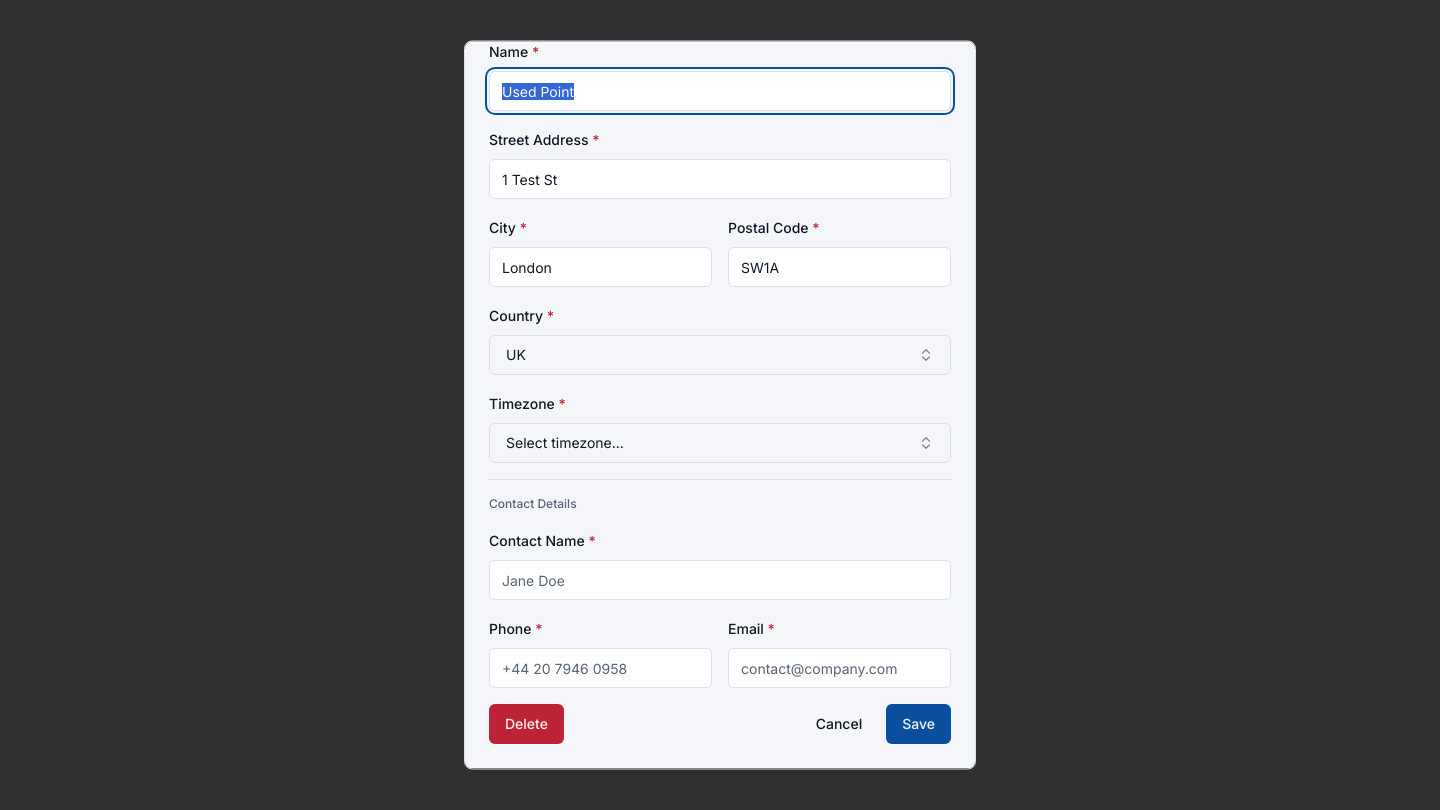
Test case: PointEditor › blocks deleting a point referenced by a leg (no DELETE) and shows a message
(page scrolled)
Expected: the dialog is shown, top-left (464, 40), bottom-right (976, 770)
Click the button "Delete". click: (526, 724)
box: top-left (489, 704), bottom-right (564, 744)
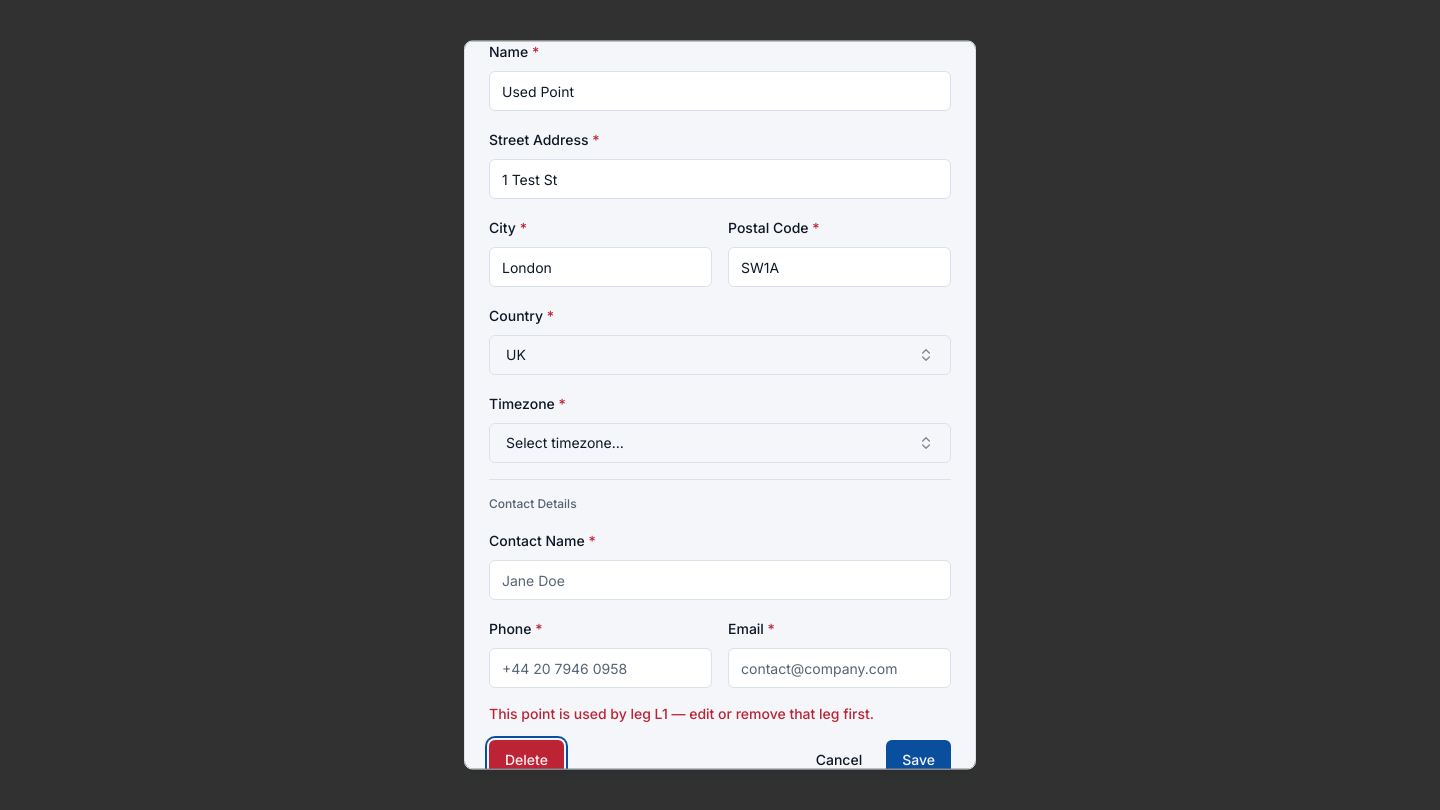
Expected: the text "This point is used by leg L1 — edit or remove that leg first." is shown, top-left (489, 706), bottom-right (874, 722)
